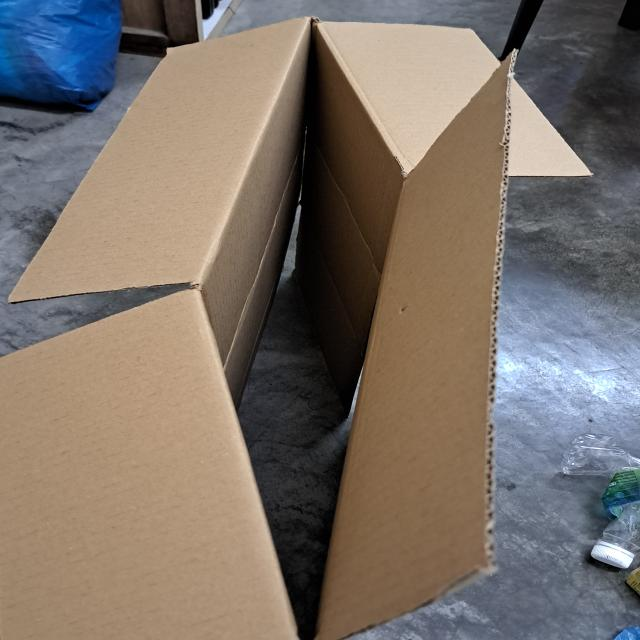cardboard: (0, 17, 597, 640)
plastic bag: (0, 0, 124, 107)
